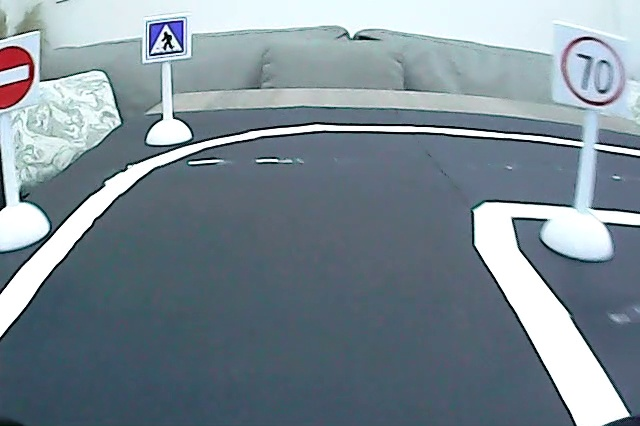do not enter: (1, 38, 41, 112)
pedestrian crossing: (146, 18, 187, 57)
speed limit 70: (557, 31, 629, 108)
